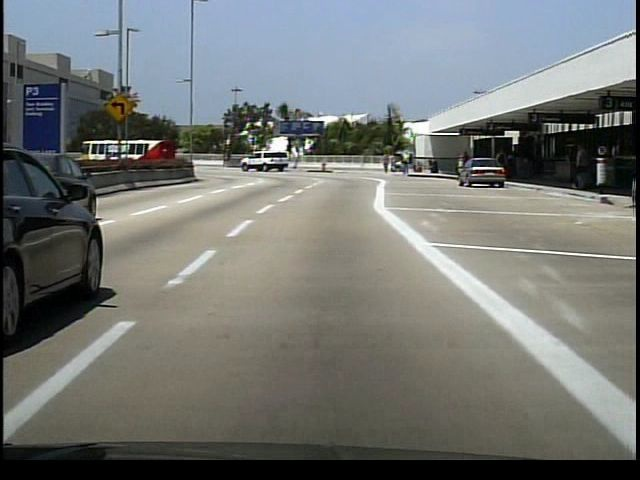person: (571, 139, 594, 194), (494, 146, 510, 184), (402, 147, 412, 177), (382, 149, 391, 173), (388, 151, 396, 175)
